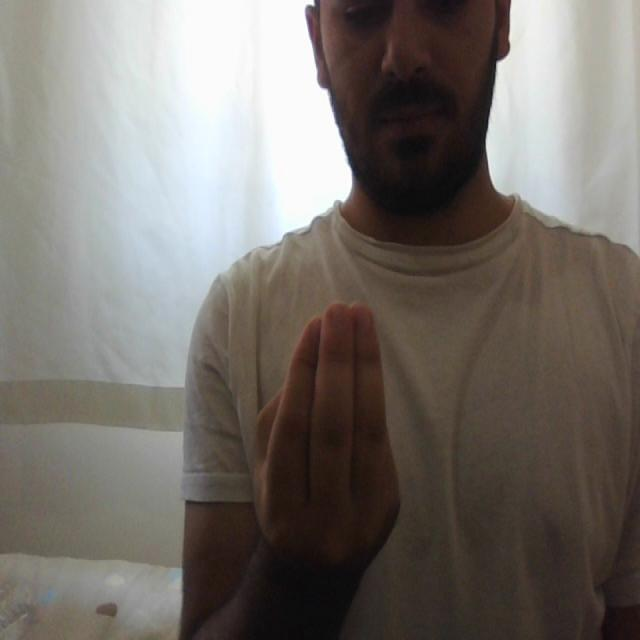iyi: (247, 291, 400, 552)
